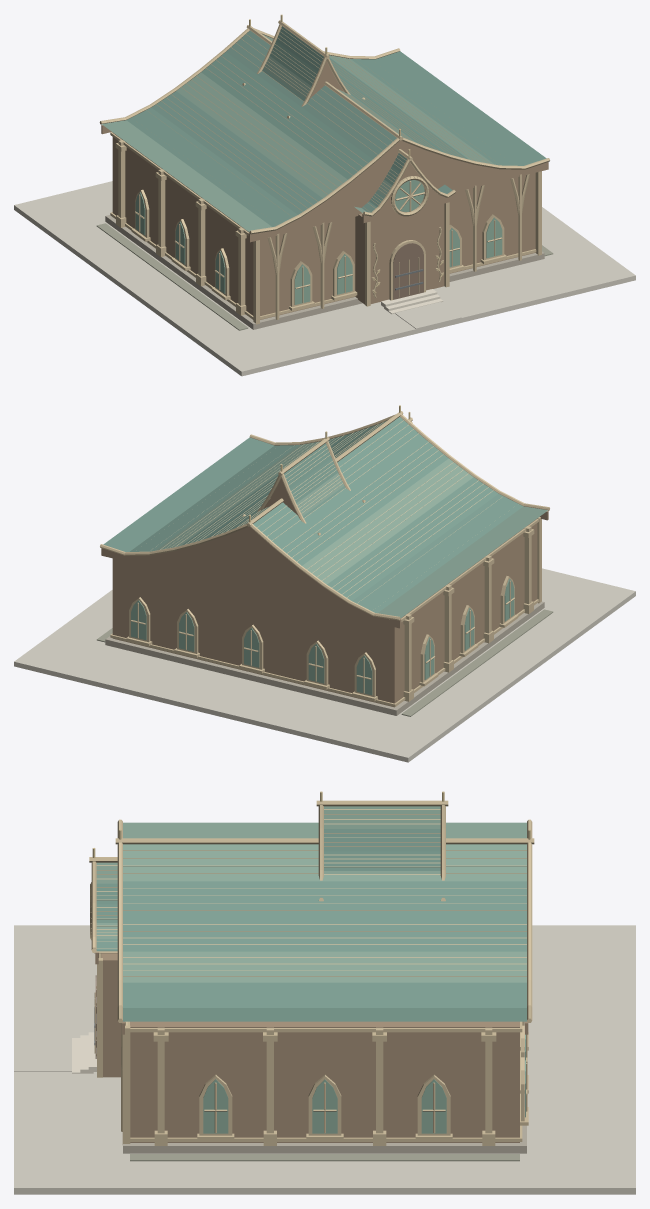
File: SpiritAcademy_Lv2.fbx
3 renders of one model, top to bottom at view 1: azimuth 30°, elevation 25°; view 2: azimuth 150°, elevation 25°; view 3: azimuth 270°, elevation 25°, orthographic. The views are drawn at different scales.
Parts seen in each view (by area): view 1: Roof surfaces.016, Fixed 26m plot.015, Main school walls.015, Roof surfaces.015, Gable infill.010, Projecting entrance bay.015, Roof courses.010, Gable verge.010, School foundation.015, Window glass.015, Decor side pilasters.015, Window frame.015 (+13 smaller); view 2: Roof surfaces.016, Fixed 26m plot.015, Main school walls.015, Roof surfaces.015, Gable infill.010, Roof courses.010, School foundation.015, Window glass.015, Gable verge.010, Window frame.015, Decor side pilasters.015, Stone stringcourse.015 (+4 smaller); view 3: Fixed 26m plot.015, Roof surfaces.016, Main school walls.015, Roof surfaces.015, Roof courses.010, School foundation.015, Gable verge.010, Window glass.015, Stone stringcourse.015, Decor side pilasters.015, Grass edging.015, Roof ridge.010 (+8 smaller).
Part boxes in pixels (x1,y1,x2,y2): Roof surfaces.016: [126, 26, 546, 226]; Fixed 26m plot.015: [14, 181, 635, 376]; Main school walls.015: [112, 132, 535, 319]; Roof surfaces.015: [102, 34, 494, 232]; Gable infill.010: [101, 61, 548, 242]; Projecting entrance bay.015: [355, 203, 444, 304]; Roof courses.010: [146, 28, 499, 214]; Gable verge.010: [99, 24, 549, 234]; School foundation.015: [105, 215, 544, 329]; Window glass.015: [135, 192, 502, 304]; Decor side pilasters.015: [118, 140, 245, 305]; Window frame.015: [135, 189, 504, 306]; Roof surfaces.016: [103, 417, 523, 613]; Fixed 26m plot.015: [14, 568, 635, 762]; Main school walls.015: [112, 519, 537, 707]; Roof surfaces.015: [155, 421, 547, 618]; Gable infill.010: [101, 478, 548, 628]; Roof courses.010: [156, 420, 501, 619]; School foundation.015: [105, 601, 544, 715]; Window glass.015: [131, 578, 514, 695]; Gable verge.010: [100, 414, 549, 620]; Window frame.015: [129, 576, 514, 697]; Decor side pilasters.015: [404, 526, 531, 691]; Stone stringcourse.015: [110, 519, 538, 706]; Fixed 26m plot.015: [14, 925, 635, 1194]; Roof surfaces.016: [96, 829, 526, 1021]; Main school walls.015: [130, 1021, 519, 1142]; Roof surfaces.015: [96, 806, 526, 982]; Roof courses.010: [94, 809, 526, 976]; School foundation.015: [123, 1022, 526, 1153]; Gable verge.010: [91, 805, 532, 1022]; Window glass.015: [203, 1034, 525, 1133]; Stone stringcourse.015: [127, 1021, 522, 1141]; Decor side pilasters.015: [157, 1027, 492, 1133]; Grass edging.015: [130, 1154, 519, 1161]; Roof ridge.010: [89, 800, 534, 862].
Bounding box in the file's own units: 26 × 12.5 × 26.
